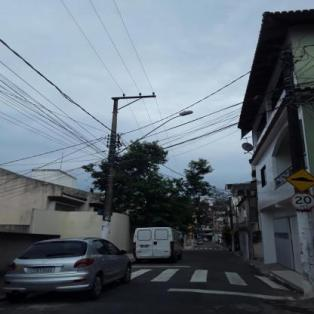Poste: (277, 42, 313, 297), (94, 94, 121, 238)
